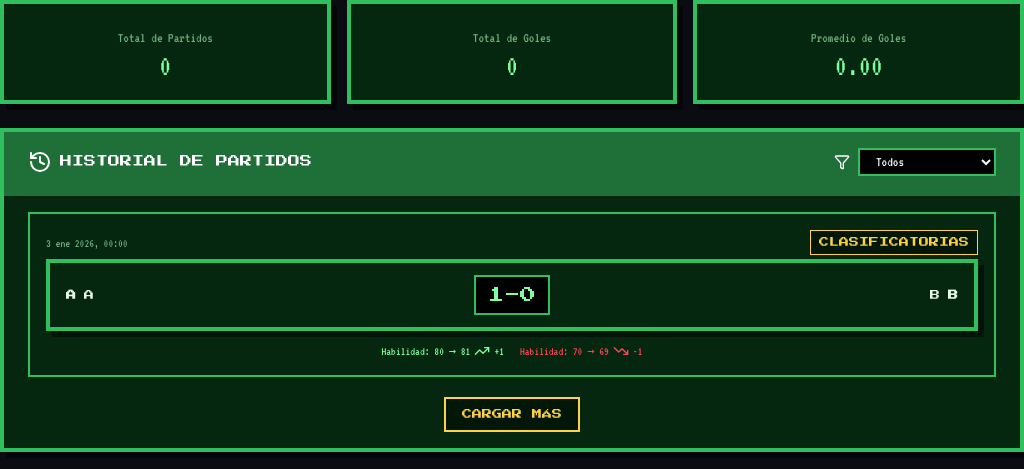
MatchHistory — loadingMore no queda pegado si el filtro cambia con un loadMore en vuelo › resetea "Cargar más" (habilitado, sin "Cargando…") aunque el loadMore viejo resuelva después del cambio de filtro
The width and height of the screenshot is (1024, 469).
Click the button "Cargar más": (512, 414) [444, 397, 580, 432]
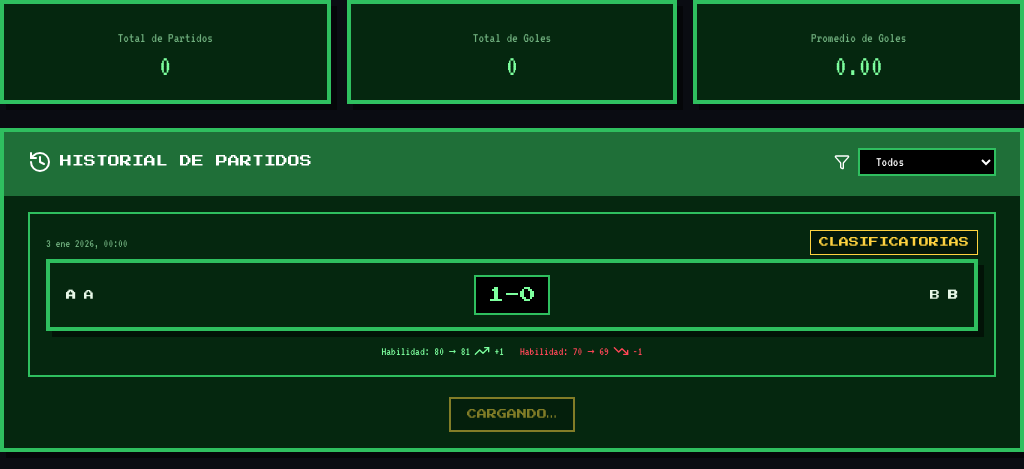
Now the button "Cargando…" is disabled, box [449, 397, 575, 432]
Select "Clasificatorias" in the dropdown: (927, 162) [858, 148, 996, 176]
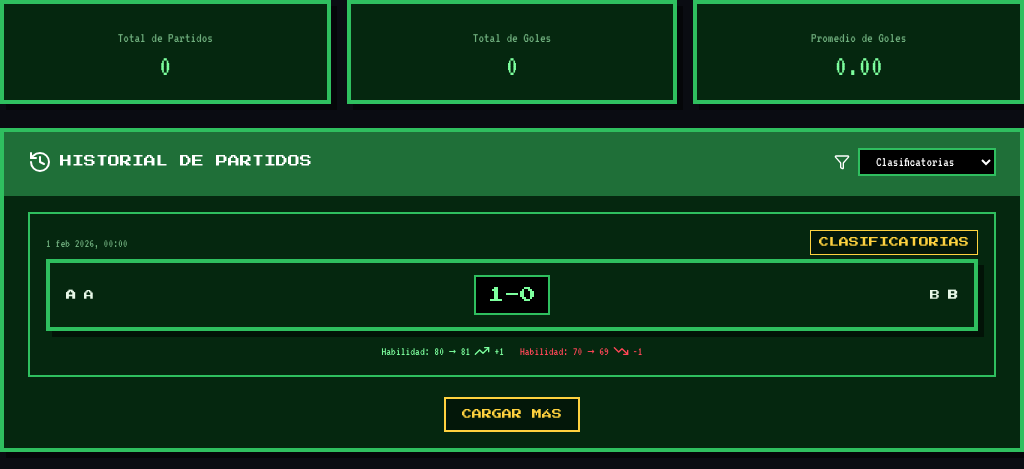
Expected: the text "Clasificatorias" is shown once, [810, 230, 978, 255]
Now the button "Cargar más" is enabled, box [444, 397, 580, 432]
Now the button "Cargar más" is shown, box [444, 397, 580, 432]
